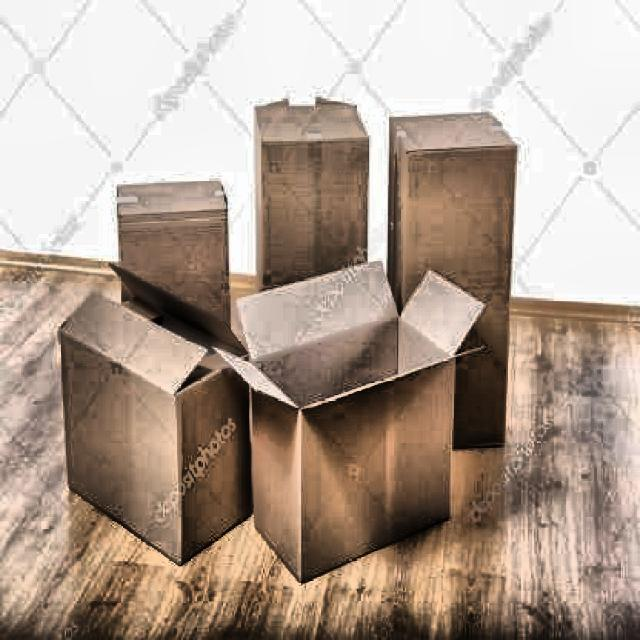Cardbox: (208, 264, 496, 577), (32, 264, 270, 570), (374, 86, 521, 483), (228, 54, 384, 412), (106, 183, 252, 412)
